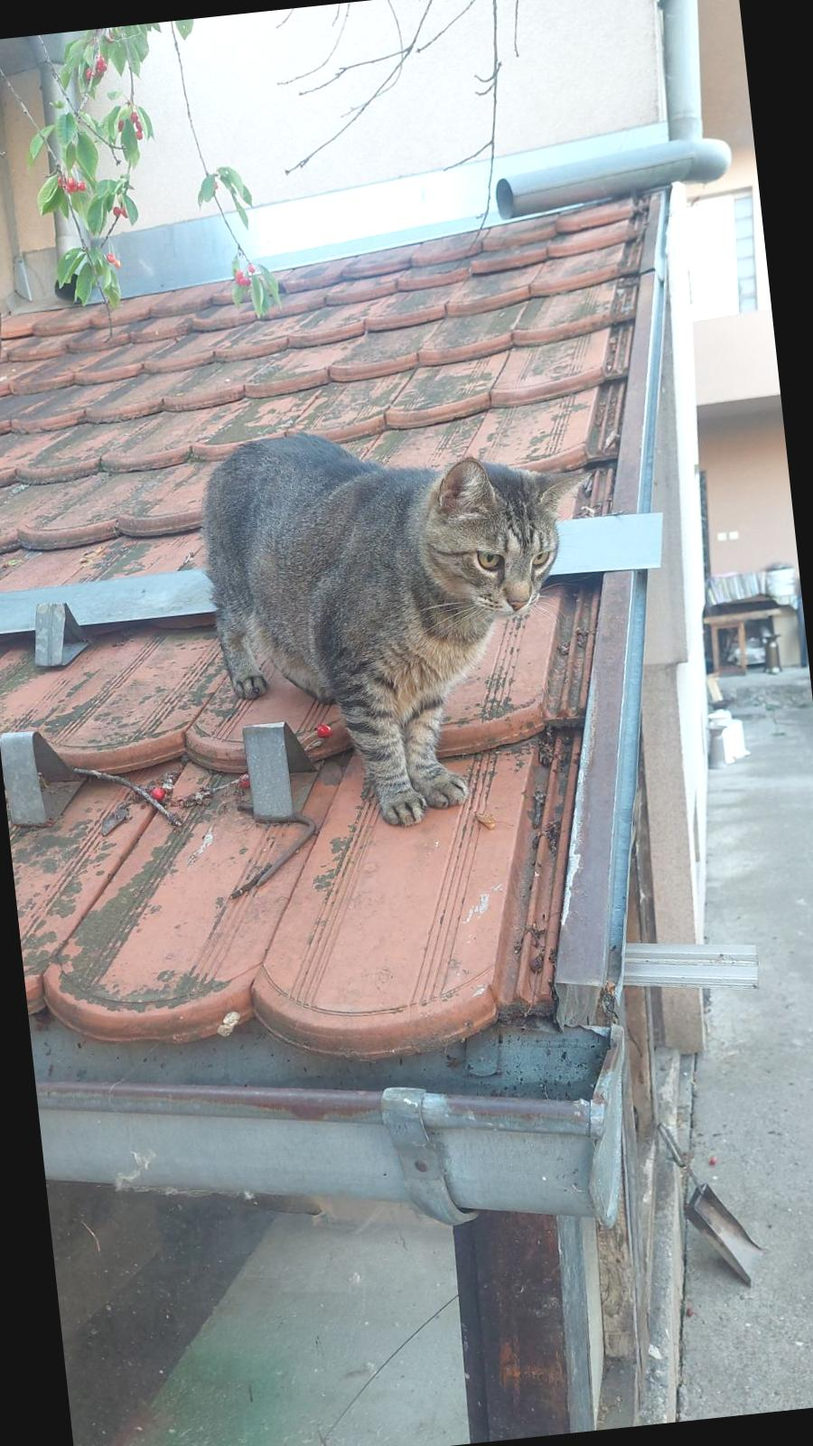macka: (192, 404, 624, 848)
